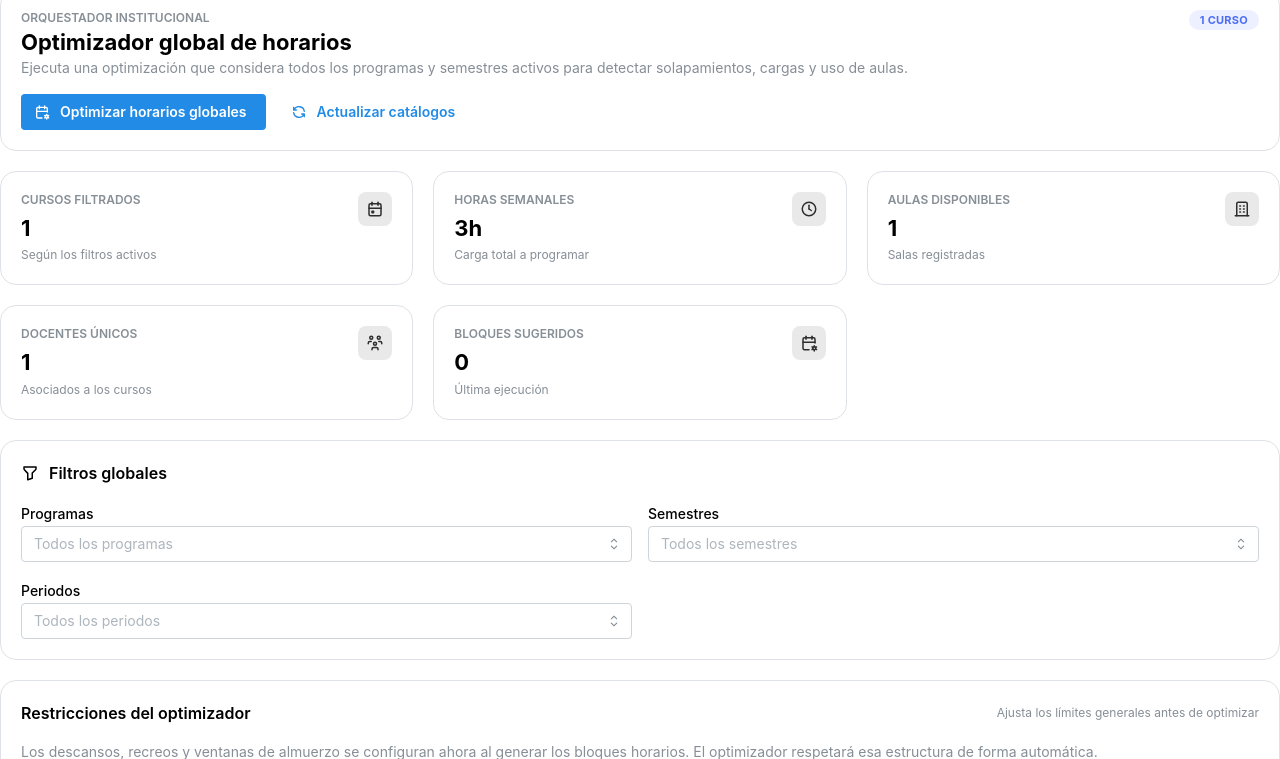
Test case: GlobalScheduleOptimizer › muestra un error cuando aplicar la propuesta global falla
Click the button "Optimizar horarios globales" at (143, 112), box x1=21 y1=94 x2=266 y2=130
(page scrolled)
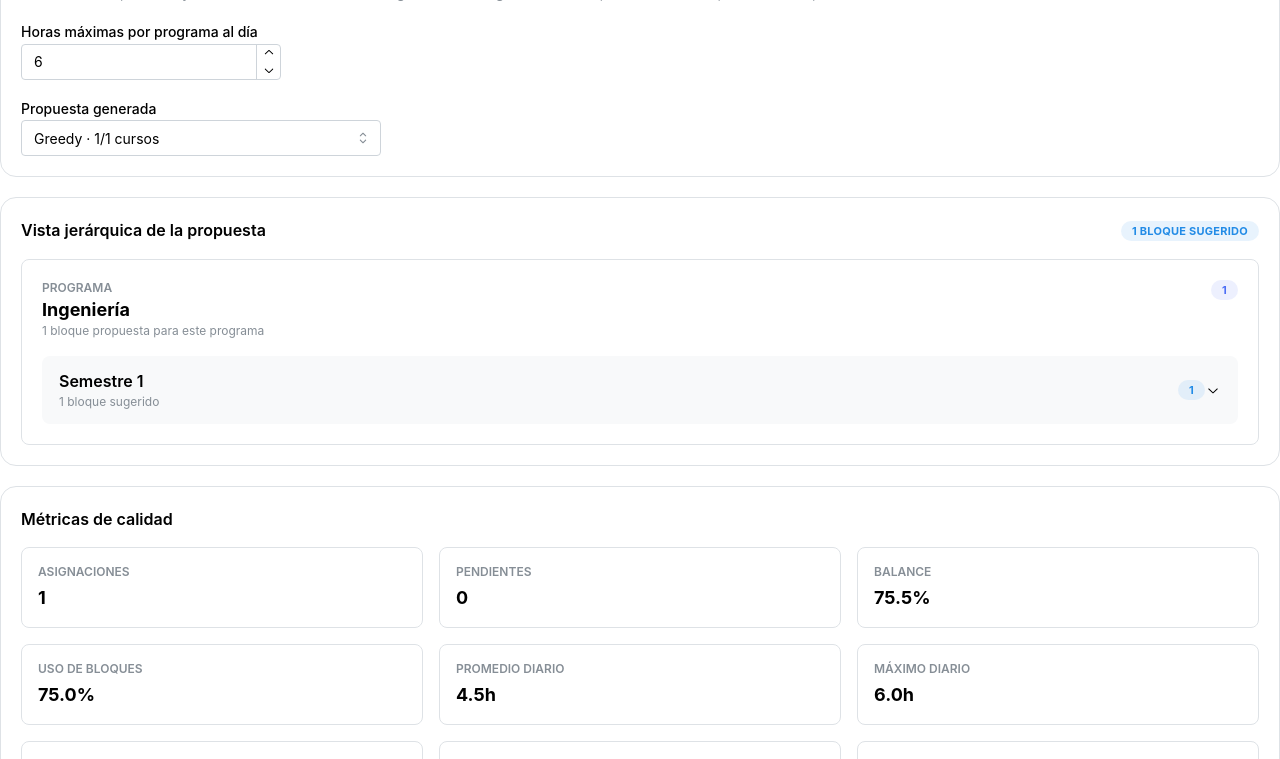
Now the heading "Ingeniería" is shown, box x1=42 y1=299 x2=130 y2=320
Click the button "Semestre 1 1 bloque sugerido 1" at (101, 381), box x1=43 y1=357 x2=1237 y2=422
(page scrolled)
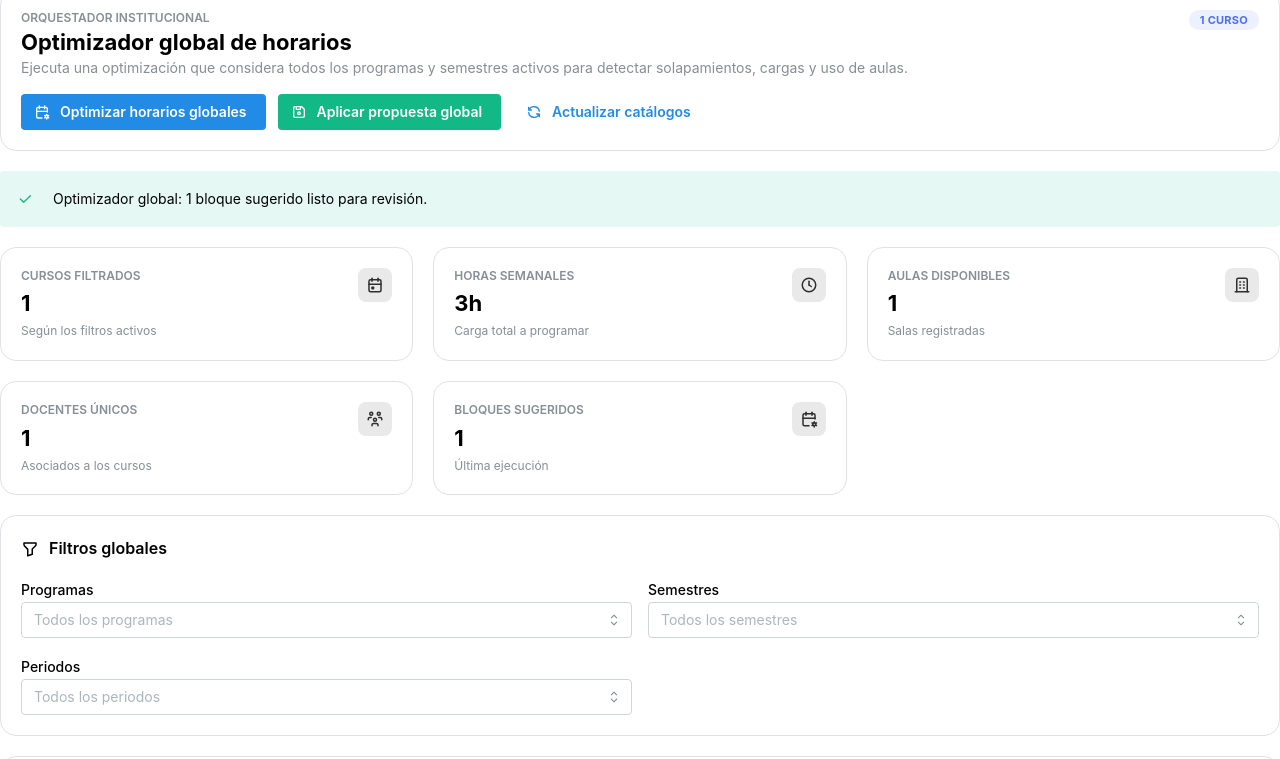
Click the button "Aplicar propuesta global" at (389, 112), box x1=278 y1=94 x2=501 y2=130
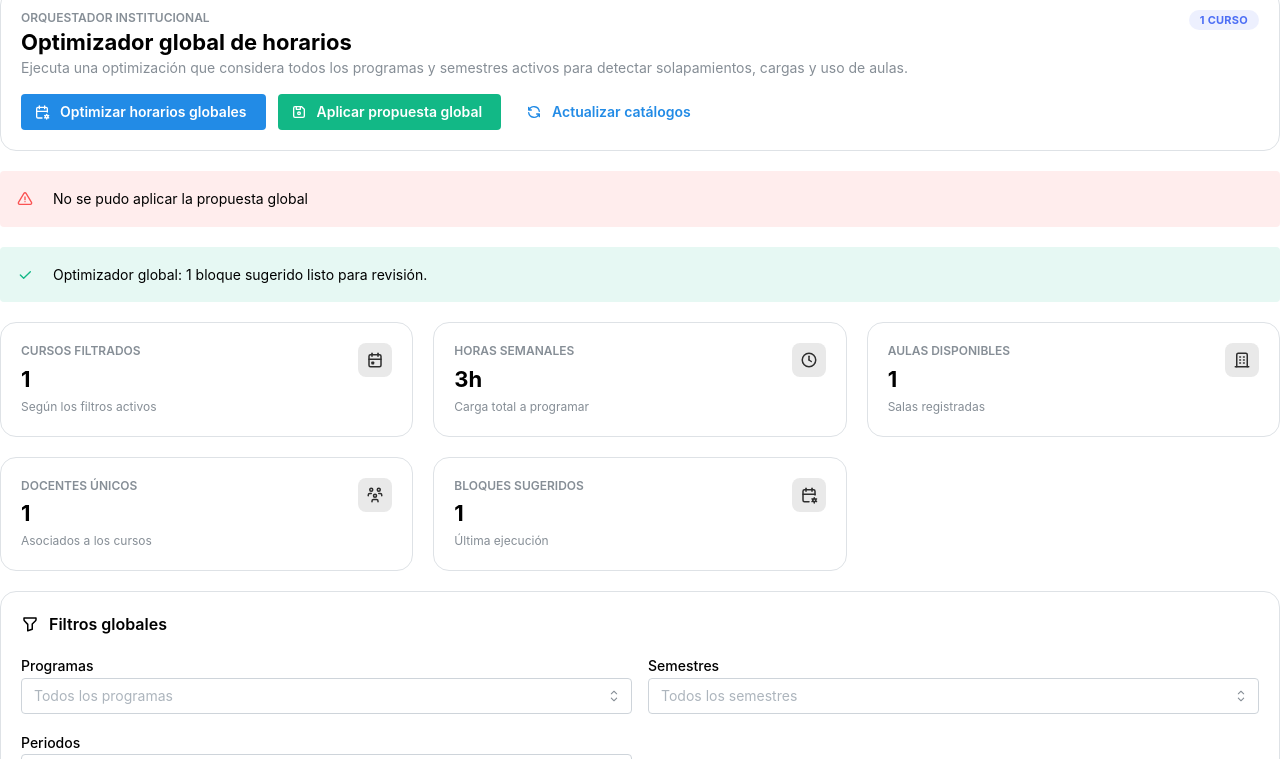
Now the button "Aplicar propuesta global" is shown, box x1=278 y1=94 x2=501 y2=130
Now the text "No se pudo aplicar la propuesta global" is shown, box x1=53 y1=190 x2=308 y2=207
